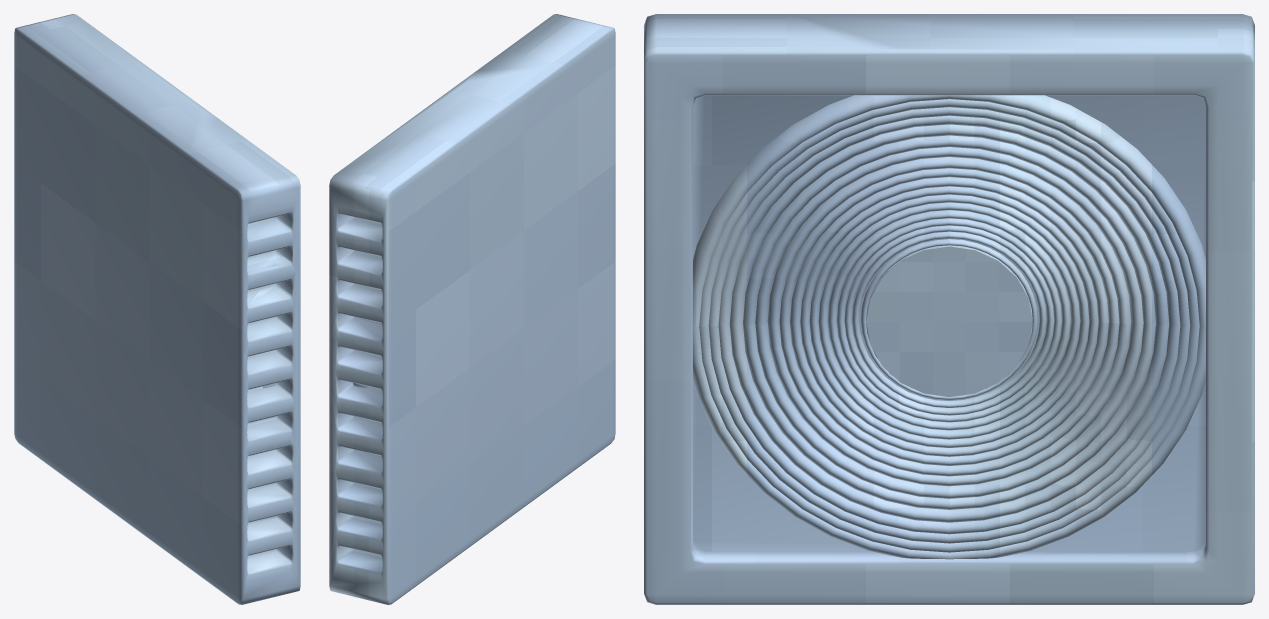
The model's file is air_vent.glb.
The picture shows the model from 3 angles, left to right: view 1: azimuth 30°, elevation 25°; view 2: azimuth 150°, elevation 25°; view 3: azimuth 270°, elevation 25°; orthographic projection. The views are drawn at different scales.
Visible parts, largest first — view 1: pTorus22; view 2: pTorus22; view 3: pTorus22.
Part boxes in pixels (x1=…): pTorus22: x1=14, y1=14, x2=300, y2=604; pTorus22: x1=329, y1=14, x2=615, y2=604; pTorus22: x1=644, y1=14, x2=1254, y2=604.
Size of the model in its own units: 0.2304 by 1.51 by 1.51.
1 material, 1 textured.
